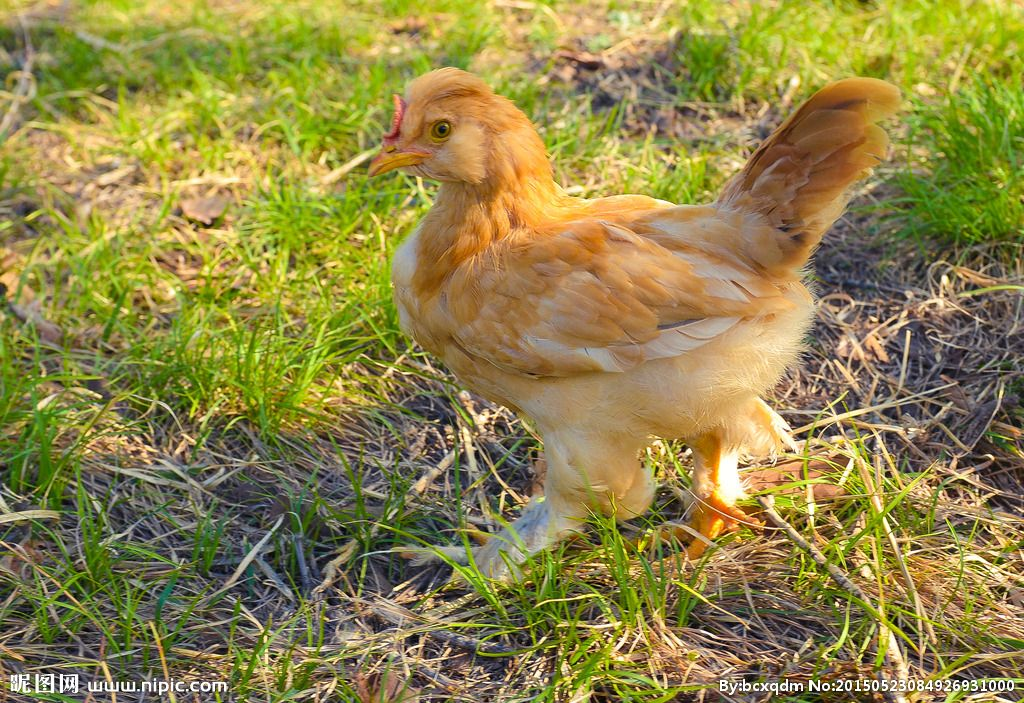chicken: (350, 40, 905, 581)
